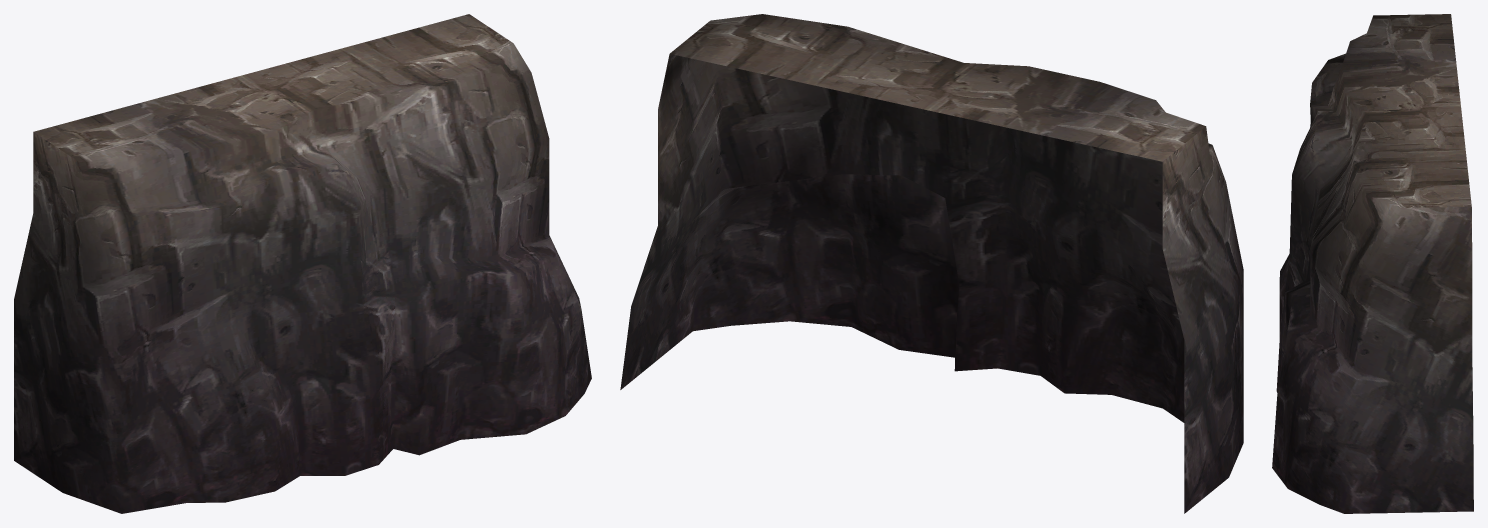
Rendered from environment_stone_qiaobi_002_d.FBX.
3 views of the same model, side by side, from view 1: azimuth 30°, elevation 25°; view 2: azimuth 150°, elevation 25°; view 3: azimuth 270°, elevation 25° (orthographic). The views are drawn at different scales.
Parts seen in each view (by area): view 1: environment_stone_qiaobi_002_d; view 2: environment_stone_qiaobi_002_d; view 3: environment_stone_qiaobi_002_d.
Part boxes in pixels (x1,y1,x2,y2): environment_stone_qiaobi_002_d: (14, 14, 591, 513); environment_stone_qiaobi_002_d: (620, 14, 1243, 513); environment_stone_qiaobi_002_d: (1272, 14, 1473, 513).
Size of the model in its own units: 449 by 268 by 172.
1 material, 1 textured.
